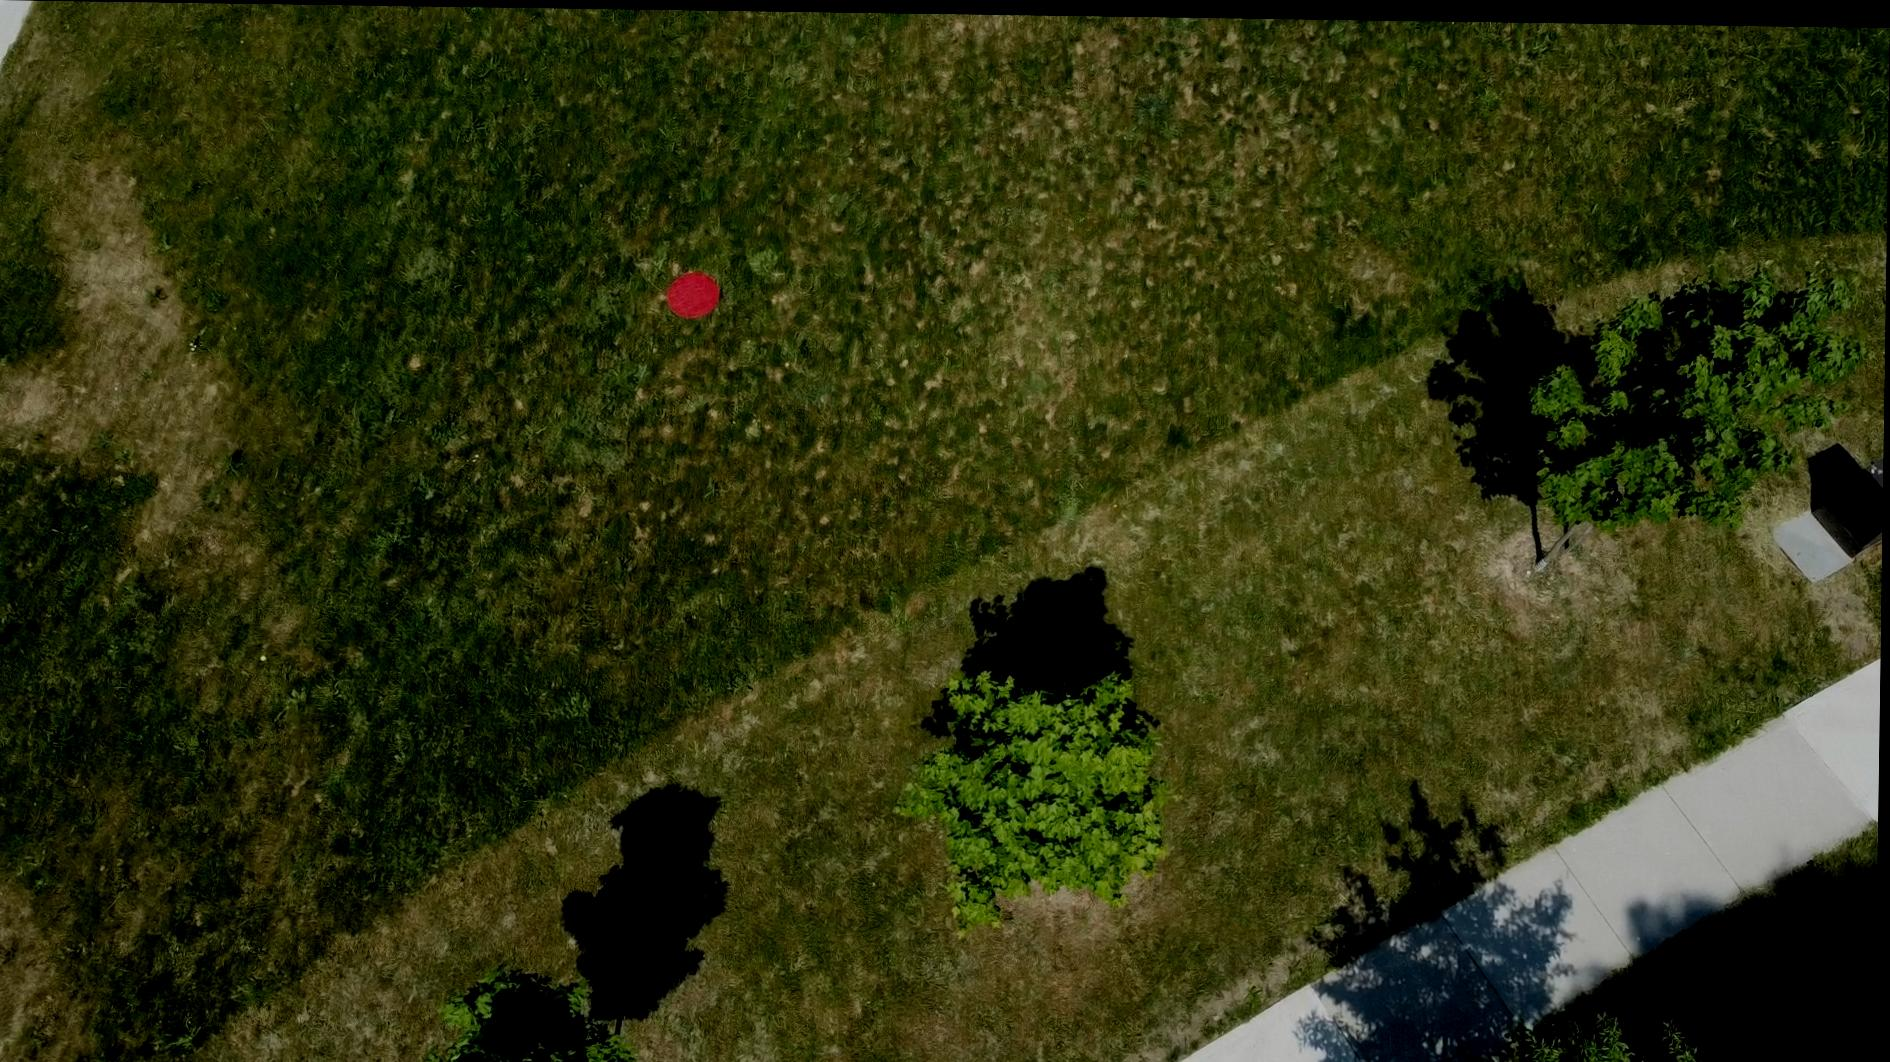Red: (665, 266, 726, 321)
